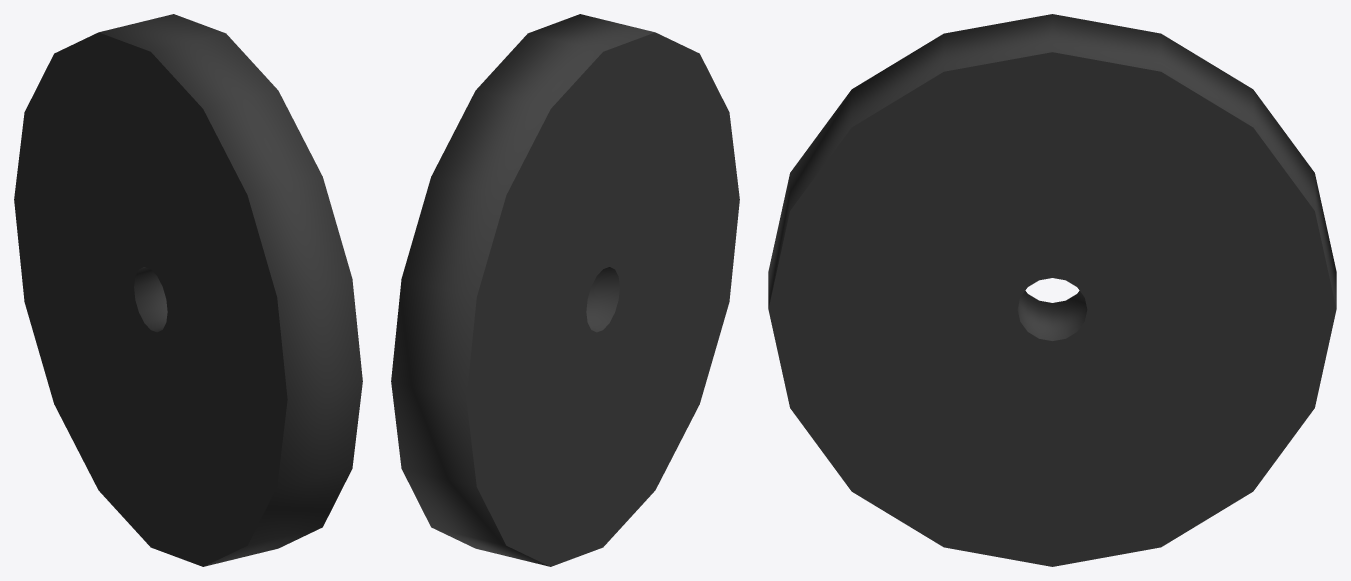
Rendered from Weight_A.fbx.
The picture shows the model from 3 angles, left to right: view 1: azimuth 30°, elevation 25°; view 2: azimuth 150°, elevation 25°; view 3: azimuth 270°, elevation 25°; orthographic projection. The views are drawn at different scales.
Parts seen in each view (by area): view 1: Weight_A; view 2: Weight_A; view 3: Weight_A.
Boxes of the visible parts, x1=… form: Weight_A: x1=14, y1=14, x2=362, y2=566; Weight_A: x1=391, y1=14, x2=739, y2=566; Weight_A: x1=768, y1=14, x2=1336, y2=566.
Size of the model in its own units: 3.72 by 23.42 by 23.42.
